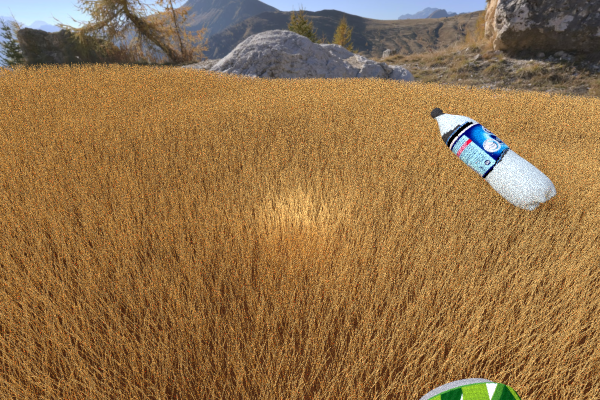bottle: (430, 107, 556, 210)
can: (407, 378, 600, 400)
